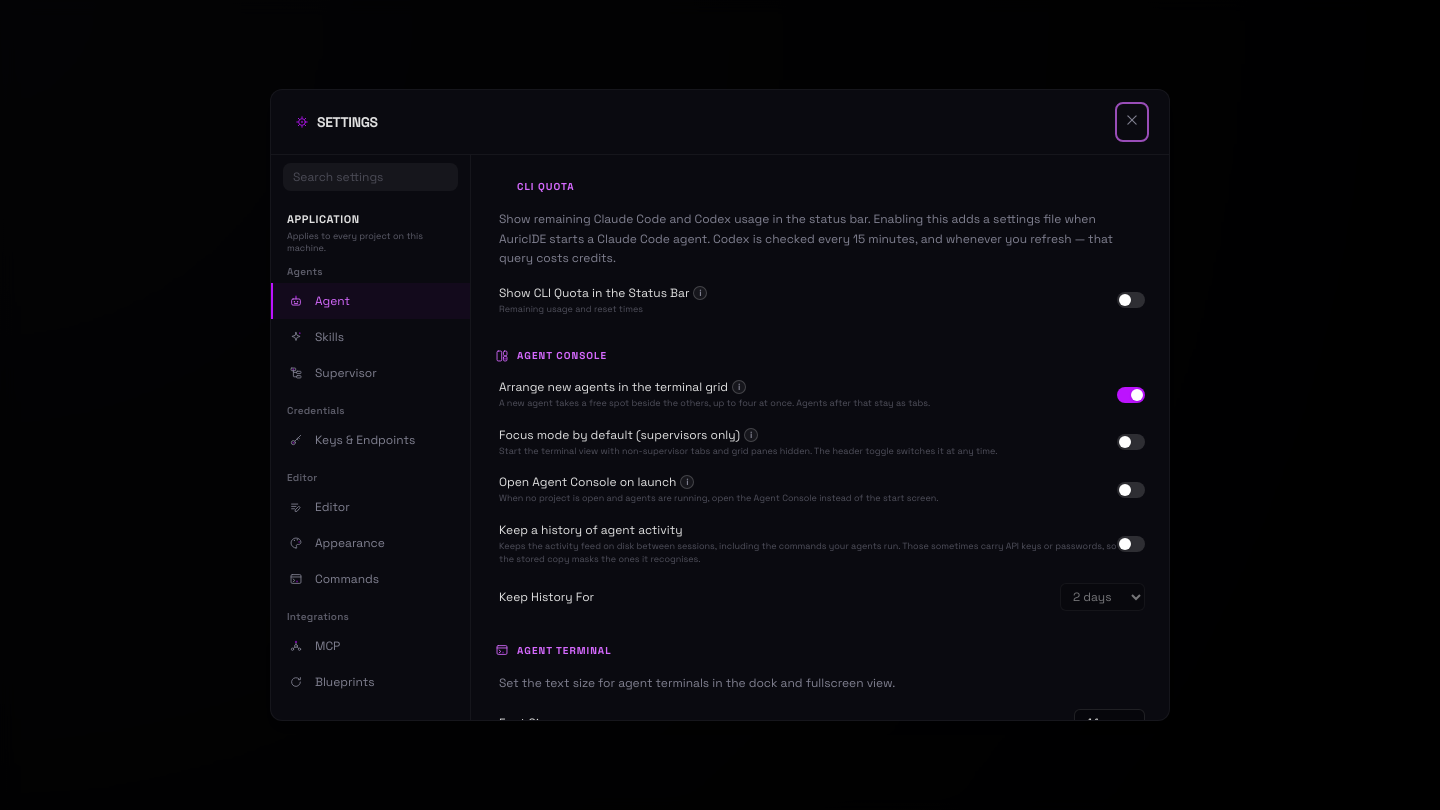
Test: SettingsModal – Grouped nav › filters nav items by search, hiding non-matching labels
Type "llm" into the field with test id "settings-search".
click(370, 177); type("llm")  # box top-left (283, 163), bottom-right (458, 191)
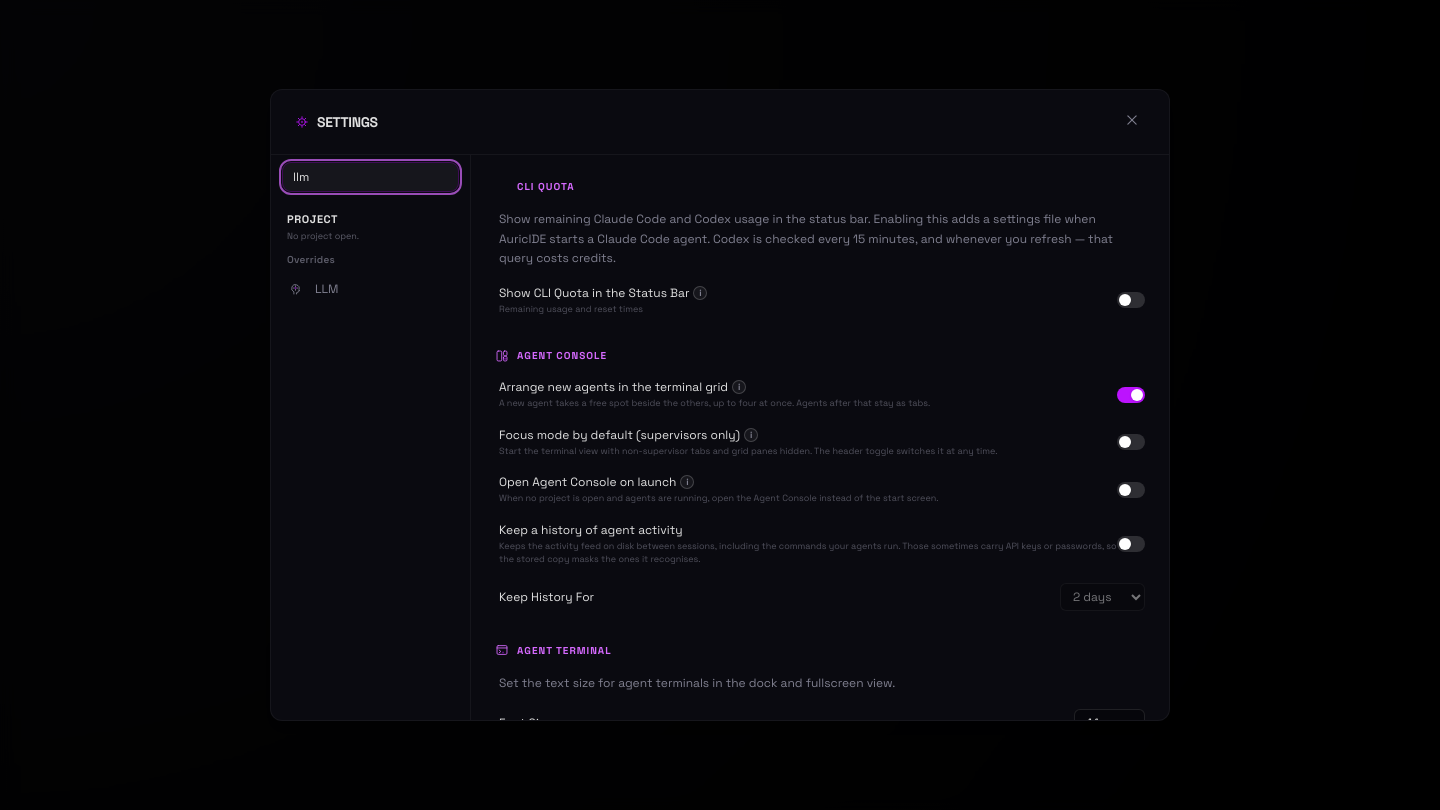
Now the button with test id "settings-nav-agent" is gone
Now the button with test id "settings-nav-llm" is shown, box top-left (271, 271), bottom-right (470, 307)
Now the text "Editor" is gone
